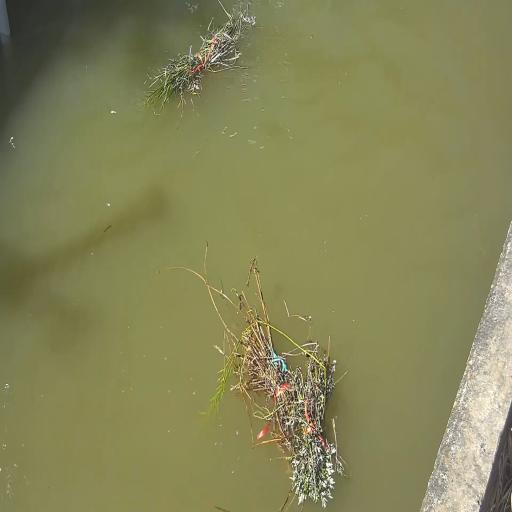twig: (170, 243, 347, 510), (145, 6, 255, 107)
